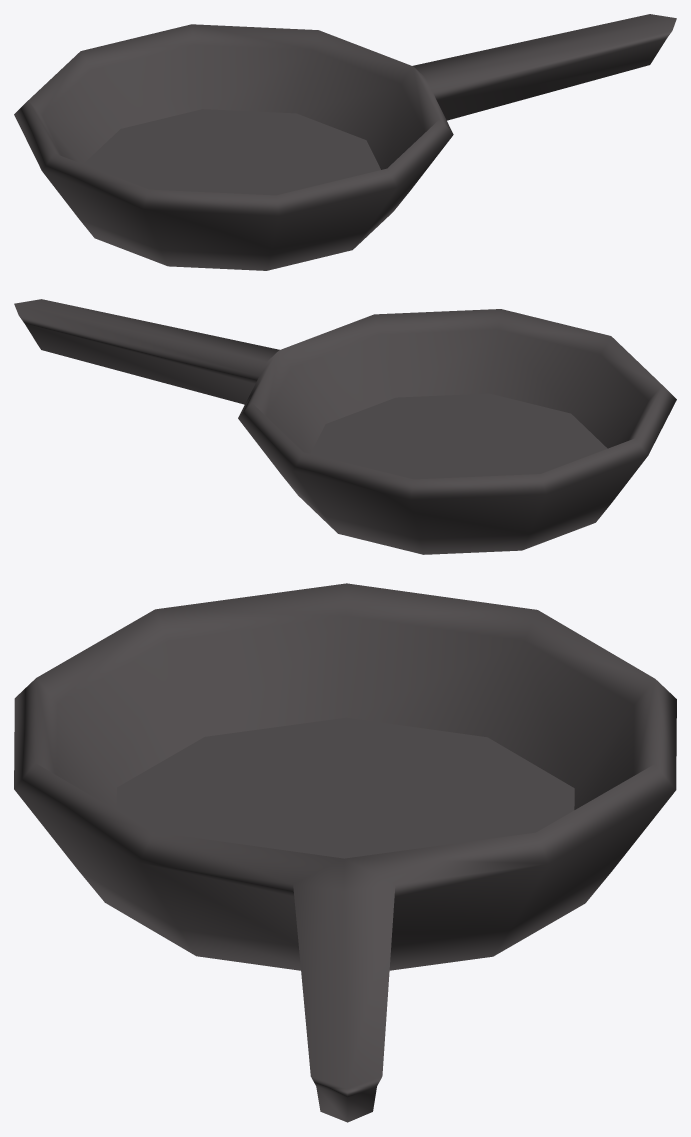
The model's file is SM_Pan_02.fbx.
3 views of the same model, one above another, from view 1: azimuth 30°, elevation 25°; view 2: azimuth 150°, elevation 25°; view 3: azimuth 270°, elevation 25° (orthographic). The views are drawn at different scales.
Visible parts, largest first — view 1: SM_Pan_02; view 2: SM_Pan_02; view 3: SM_Pan_02.
Boxes of the visible parts, x1=… form: SM_Pan_02: x1=14, y1=14, x2=676, y2=270; SM_Pan_02: x1=14, y1=299, x2=676, y2=554; SM_Pan_02: x1=14, y1=583, x2=676, y2=1122.
Size of the model in its own units: 44.07 by 6.28 by 25.3.
